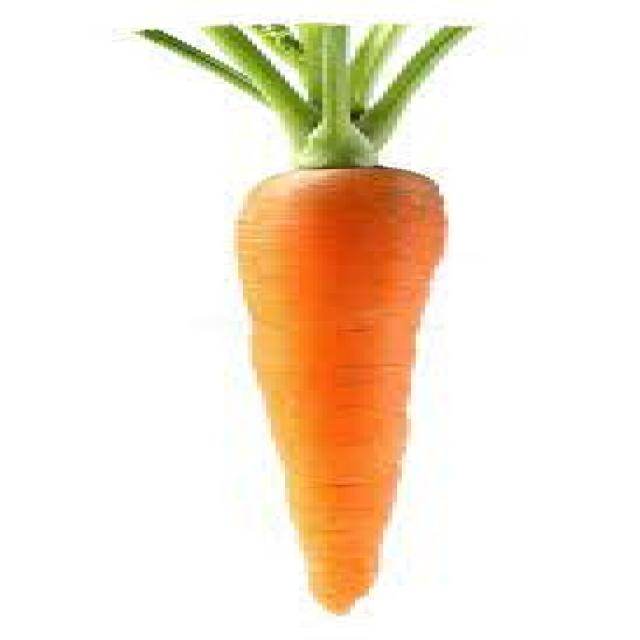carrot: (229, 164, 448, 616)
